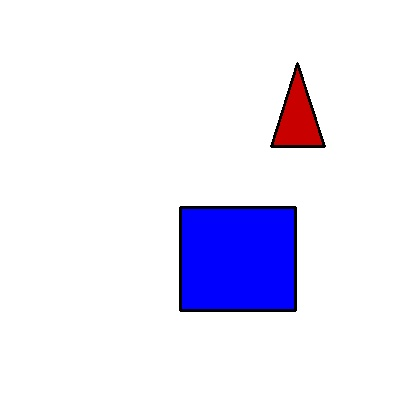rectangle: (180, 207, 295, 310)
triangle: (271, 63, 324, 146)
